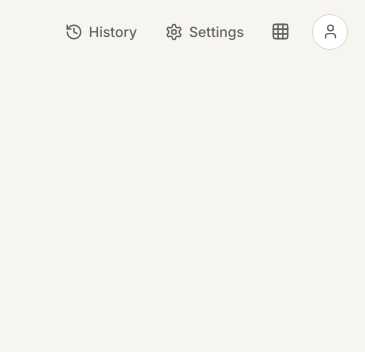
Test: Header › closes the apps menu on Escape and reports its state
Click the button named "PH apps" at x=280, y=32, box x1=260 y1=12 x2=300 y2=52
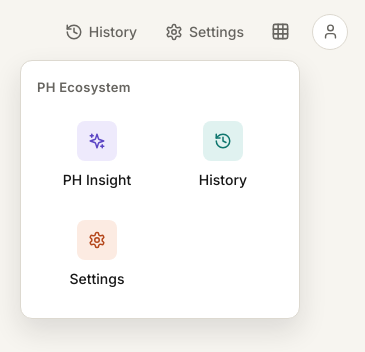
Press Escape
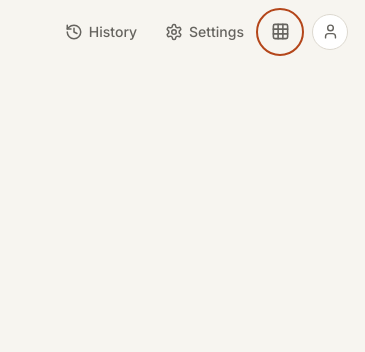
Expected: the button named "PH apps" is collapsed, x1=260 y1=12 x2=300 y2=52
Expected: the text "PH Ecosystem" is gone
